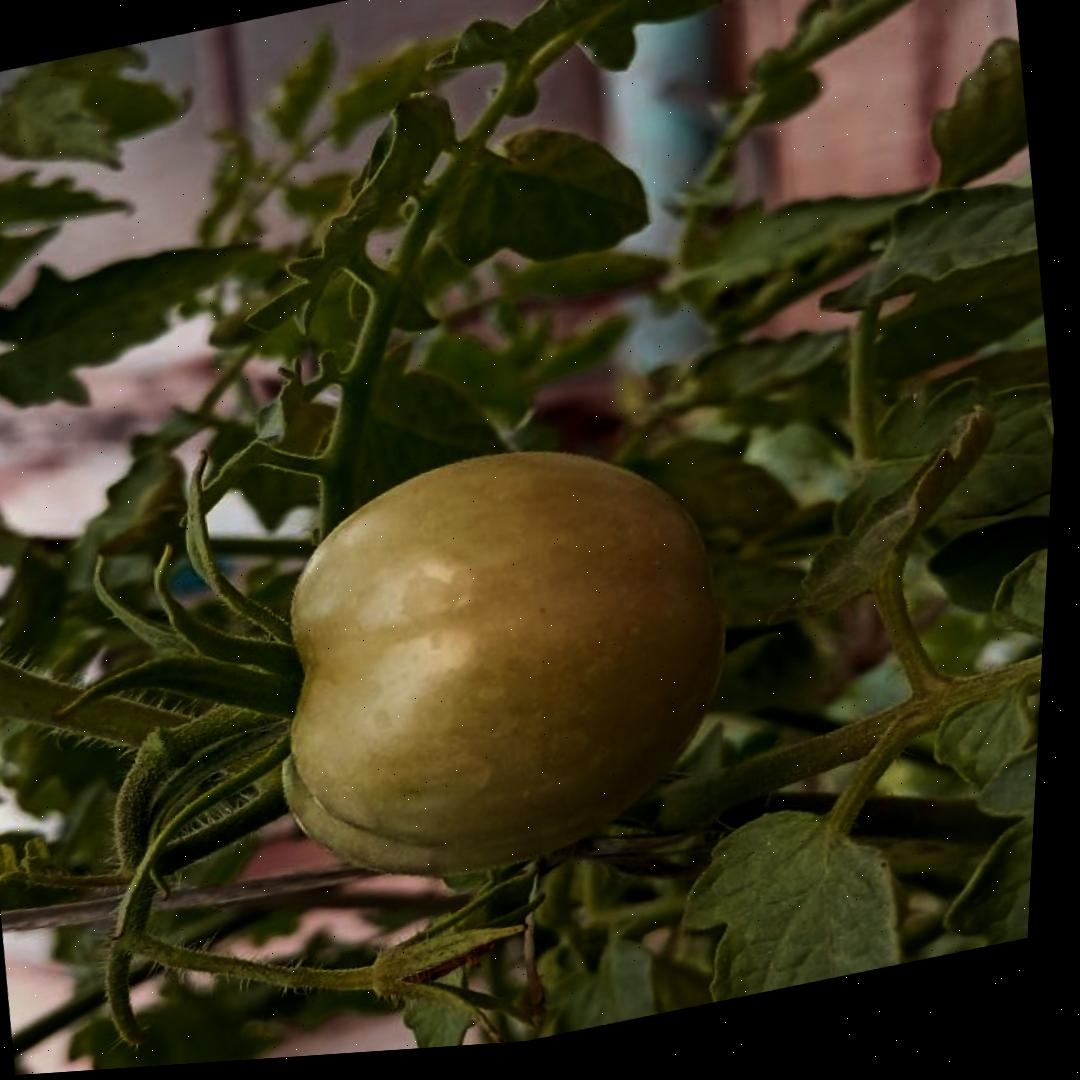mentah: (233, 404, 755, 915)
